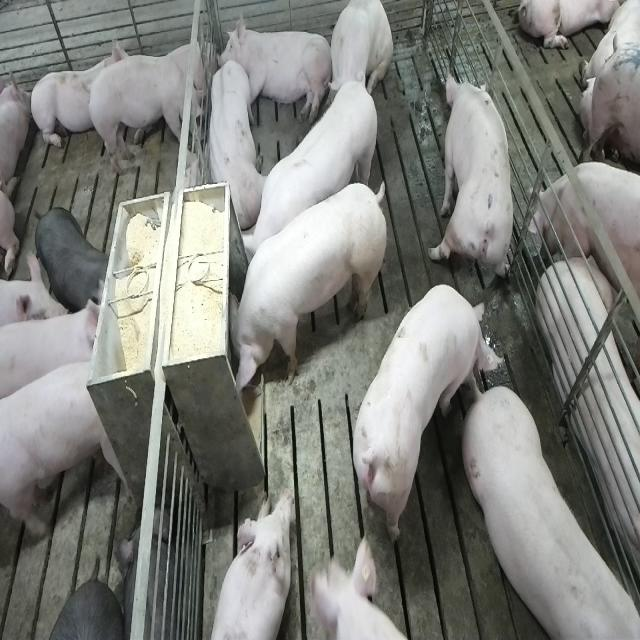Feeding: (220, 174, 384, 400)
Lateral_lying: (537, 227, 640, 595), (214, 14, 334, 128)
Sitting: (326, 0, 394, 114)
Standing: (465, 382, 640, 639), (348, 288, 498, 549), (242, 78, 382, 278), (2, 358, 134, 546), (432, 69, 516, 292), (86, 51, 212, 182), (531, 161, 640, 299), (3, 292, 109, 418), (36, 203, 112, 311)
Sternal_lying: (208, 488, 292, 640), (31, 32, 125, 152), (203, 59, 266, 230)
